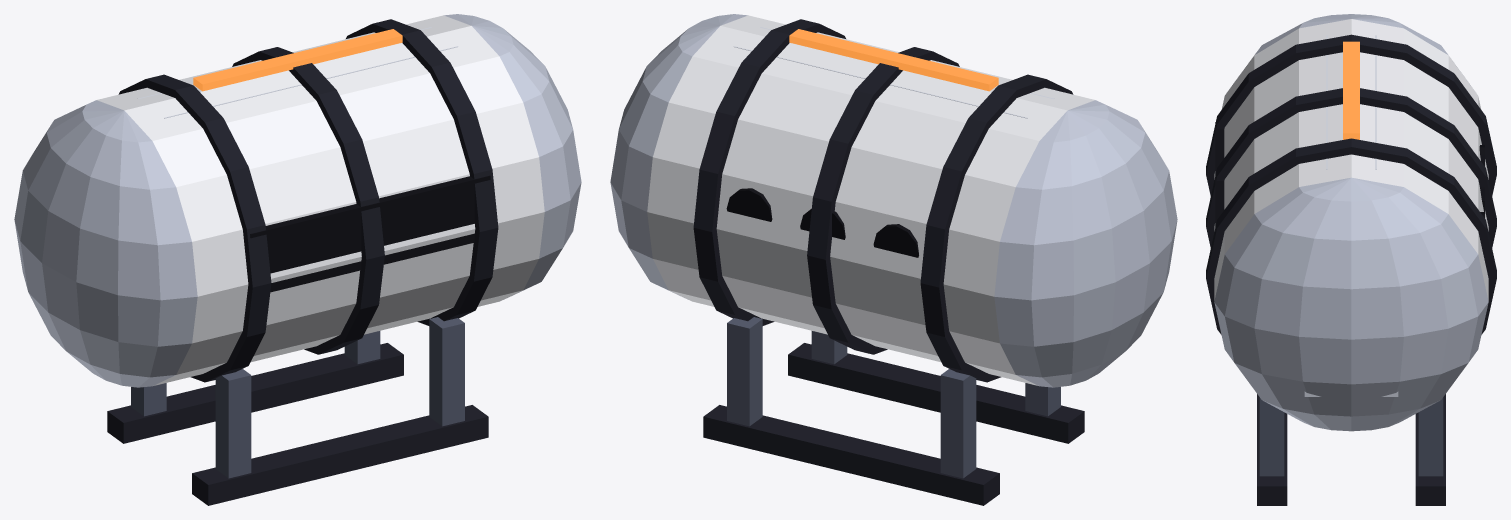
File: jungle_hab_pod.glb
3 renders of one model, left to right at view 1: azimuth 30°, elevation 25°; view 2: azimuth 150°, elevation 25°; view 3: azimuth 270°, elevation 25°, orthographic. The views are drawn at different scales.
Parts seen in each view (by area): view 1: jungle_hab_pod; view 2: jungle_hab_pod; view 3: jungle_hab_pod.
Boxes of the visible parts, x1,y1,x2,y2 form: jungle_hab_pod: [14, 14, 581, 505]; jungle_hab_pod: [610, 14, 1177, 505]; jungle_hab_pod: [1206, 14, 1496, 505].
Size of the model in its own units: 7.67 by 5.41 by 4.03.
